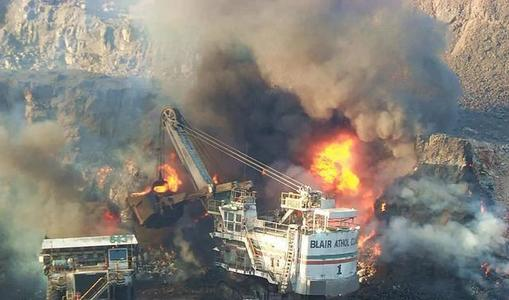fire: (308, 133, 360, 190), (153, 165, 180, 193)
